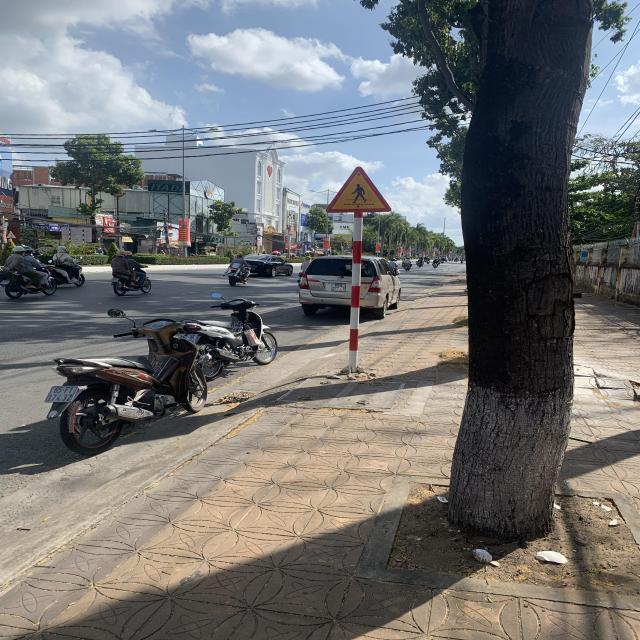Duong_Nguoi_Di_Bo_Sang_Ngang: (325, 166, 391, 213)
